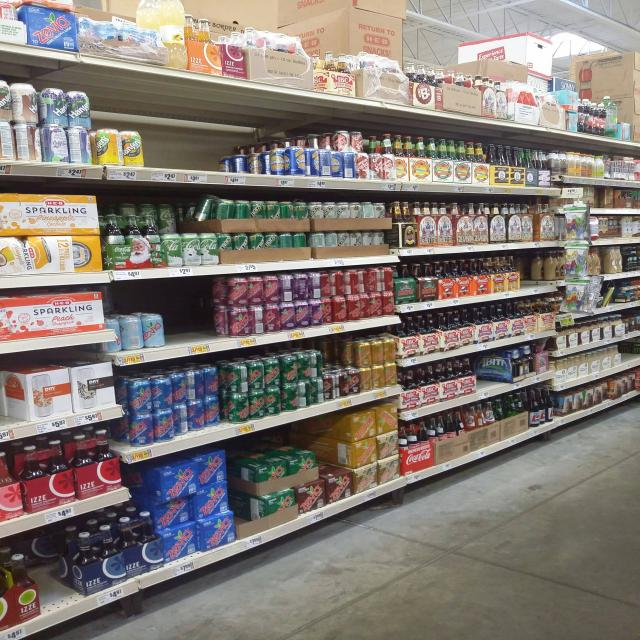empty: (138, 99, 232, 173), (18, 538, 79, 599), (157, 284, 218, 337), (616, 338, 639, 366)
